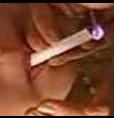Cigarette: (30, 26, 100, 66)
